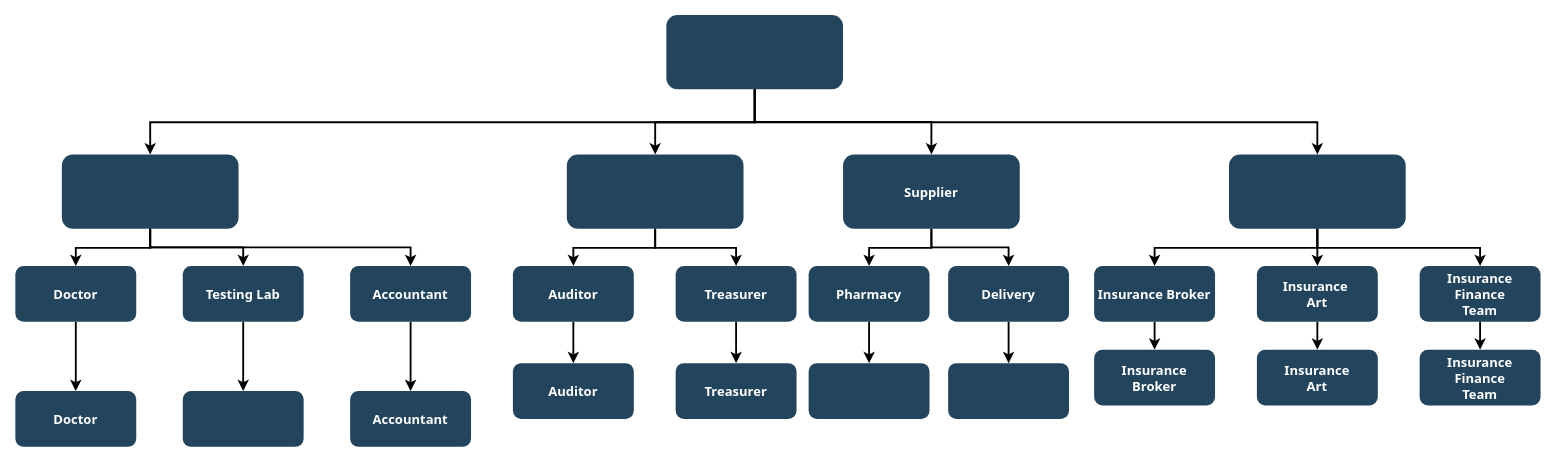
Some shapes in this 1556 by 462 pixel diagram are drawn without their labels. Each missing label, with the centre of its shape:
"DeliveryMan" belongs at (1008,390).
"Healthcare" belongs at (149,191).
"Insurance" belongs at (1317,191).
"Lab Assistant" belongs at (242,418).
"NGO" belongs at (654,191).
"Pharmacist" belongs at (868,390).
"SysAdmin" belongs at (754,51).
